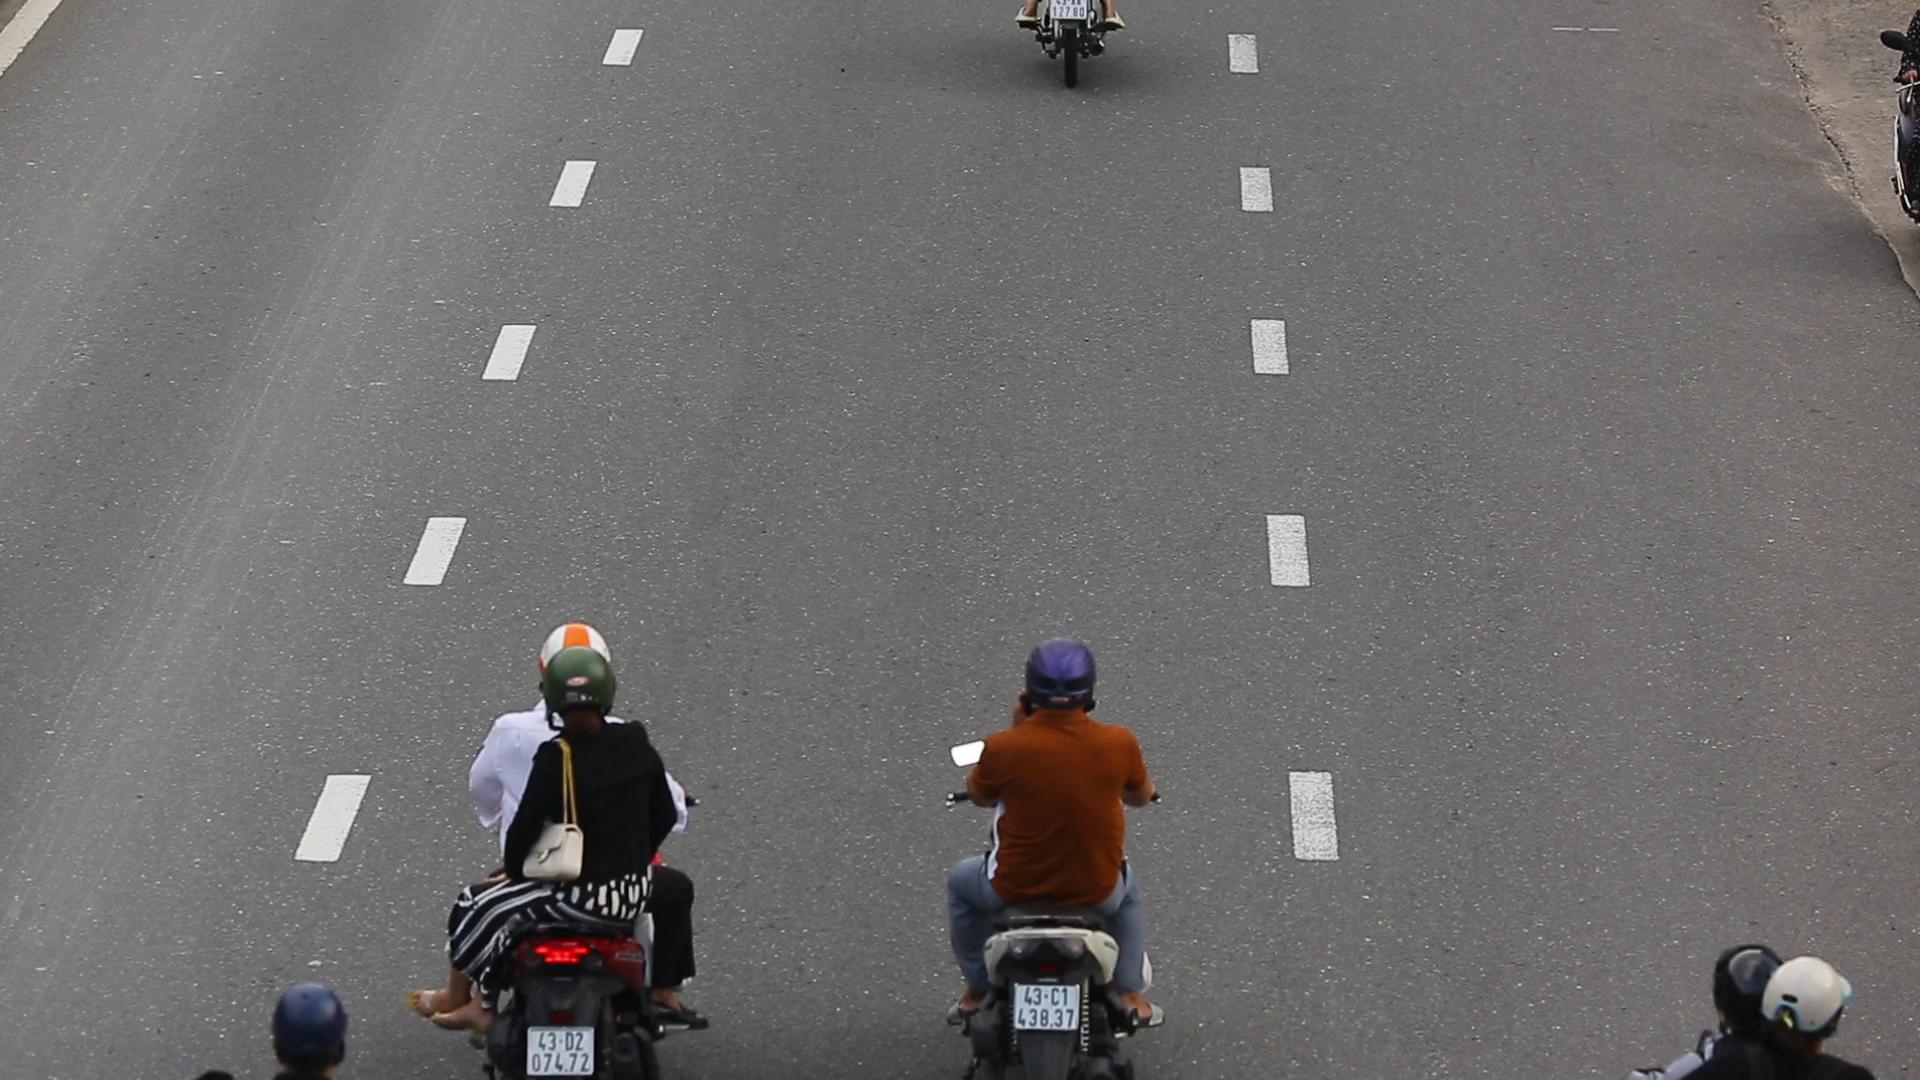motobike: (438, 604, 713, 1080), (935, 626, 1179, 1080)
